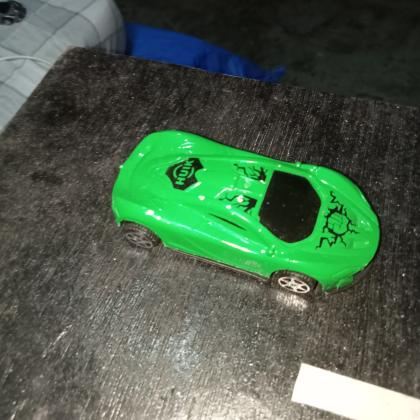Car: (109, 127, 384, 299)
